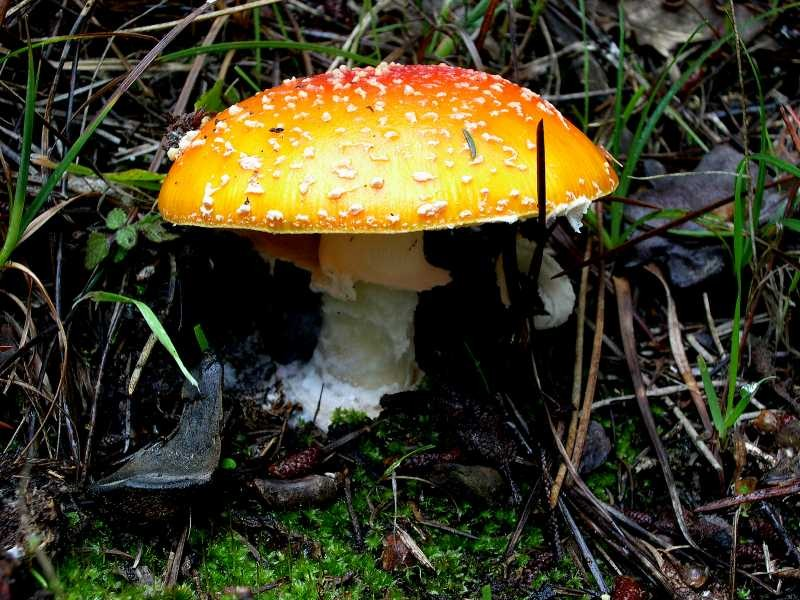orange: (155, 60, 621, 235)
